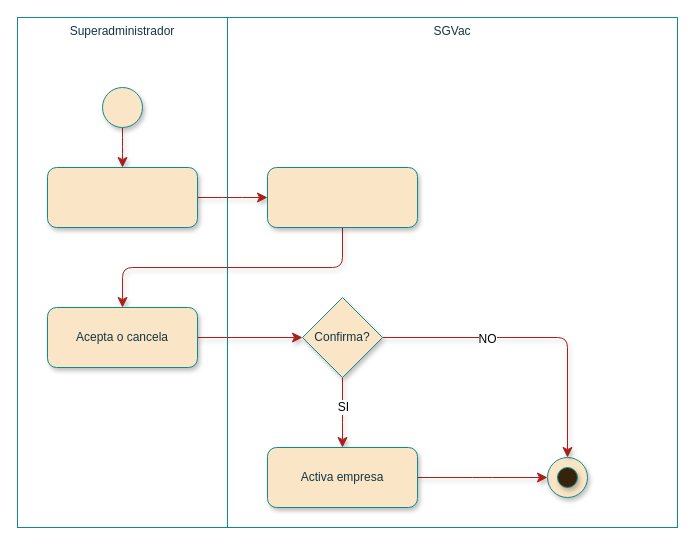
Image size: 695x545. Some labels were removed from this diagram. The centre of each missing label's shape, as x and y in pixels:
"Elige la opción de activar empresa" goes at point 123,198.
"Muestra confirmación" goes at point 343,198.
